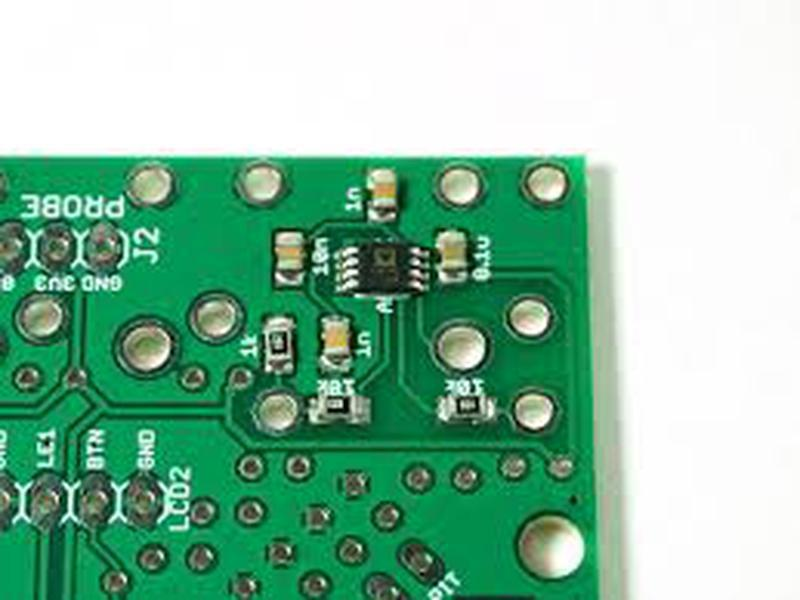SMD capacitor: (371, 169, 402, 226), (270, 228, 305, 276), (326, 316, 349, 365)
SMD resistor: (446, 397, 490, 422), (321, 397, 357, 422)
